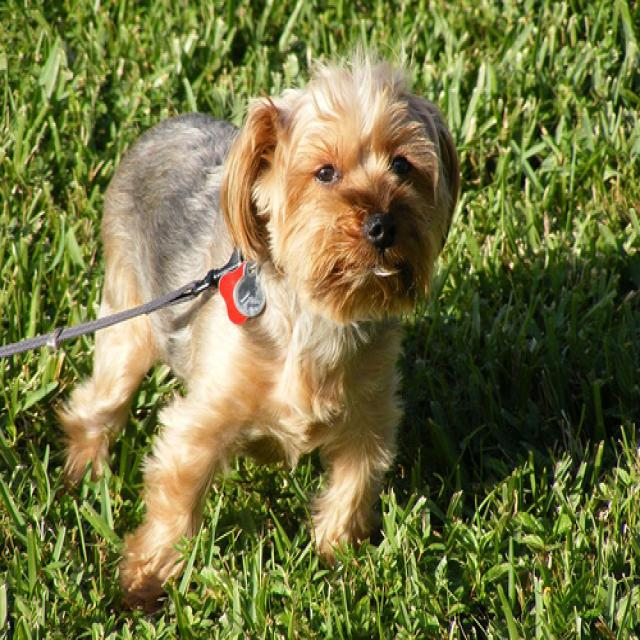dog-yorkshire_terrier: (60, 55, 468, 606)
